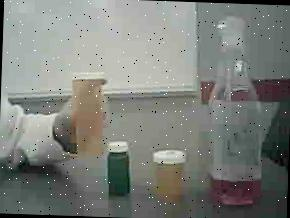Bottle A: (66, 68, 104, 156)
Bottle B: (148, 140, 192, 202)
Bottle C: (105, 136, 138, 205)
hazard: (205, 12, 275, 208)
